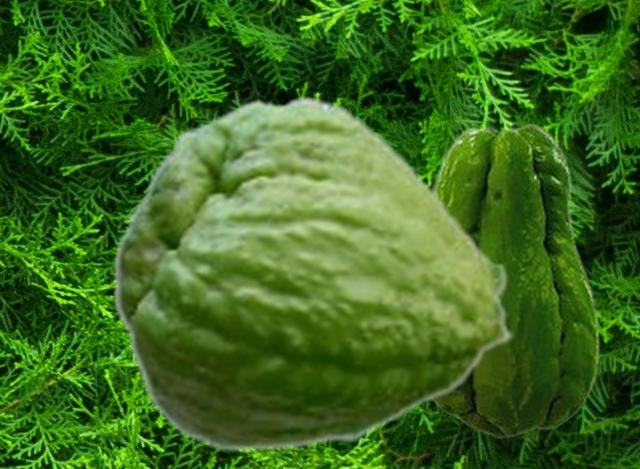sayote: (112, 94, 516, 453), (431, 122, 599, 438)
